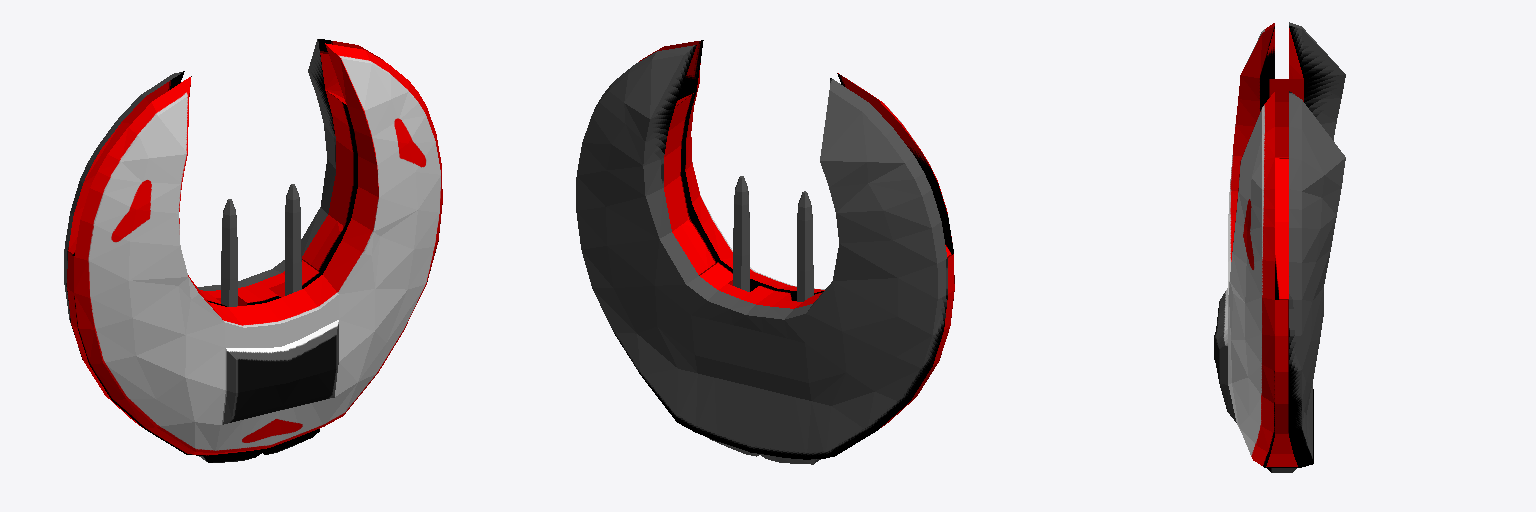
The picture shows the model from 3 angles: view 1: azimuth 30°, elevation 25°; view 2: azimuth 150°, elevation 25°; view 3: azimuth 270°, elevation 25°; orthographic projection.
Visible parts, largest first — view 1: Ship; view 2: Ship; view 3: Ship.
Boxes of the visible parts, x1=… form: Ship: x1=64, y1=39, x2=442, y2=462; Ship: x1=576, y1=40, x2=954, y2=464; Ship: x1=1214, y1=22, x2=1345, y2=472.
Size of the model in its own units: 0.7996 by 0.8205 by 0.2479.
Materials: 1 (1 with a texture image).